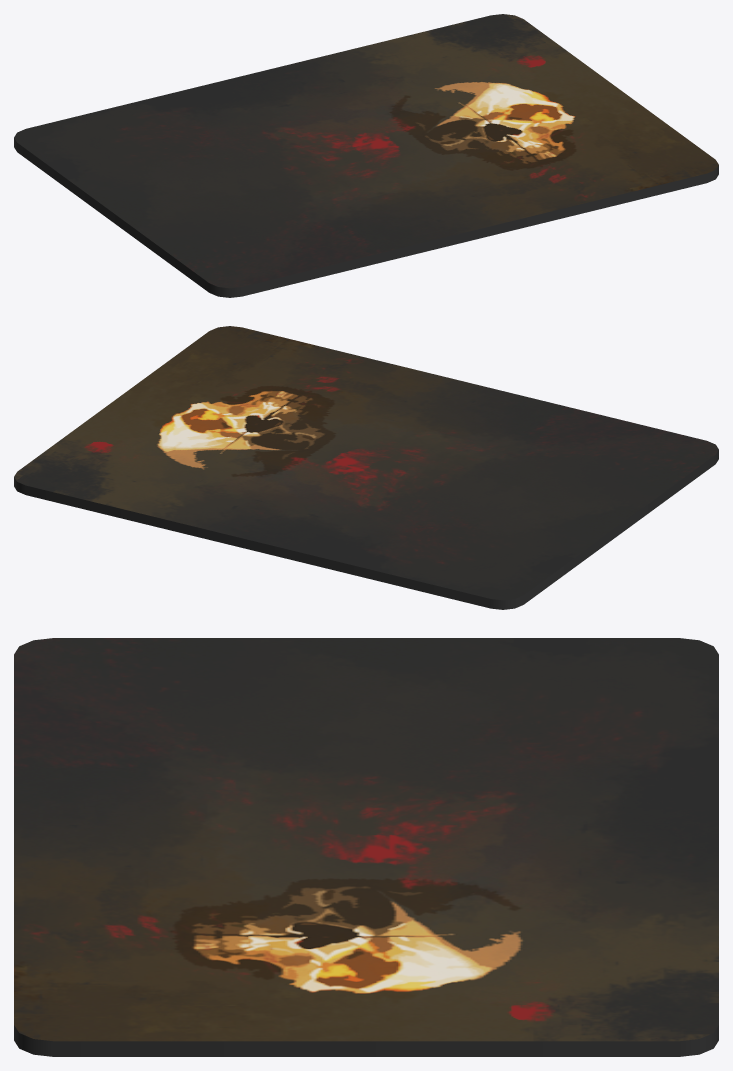
Rendered from PC_Mouse_Pad_1.obj.
The picture shows the model from 3 angles, top to bottom: view 1: azimuth 30°, elevation 25°; view 2: azimuth 150°, elevation 25°; view 3: azimuth 270°, elevation 25°; orthographic projection. The views are drawn at different scales.
Visible parts, largest first — view 1: PC_Mouse_Pad_1; view 2: PC_Mouse_Pad_1; view 3: PC_Mouse_Pad_1.
Part boxes in pixels (x1,y1,x2,y2): PC_Mouse_Pad_1: [14, 14, 718, 297]; PC_Mouse_Pad_1: [14, 326, 718, 609]; PC_Mouse_Pad_1: [14, 638, 718, 1056].
Bounding box in the file's own units: 0.3671 × 0.00666 × 0.2713.
